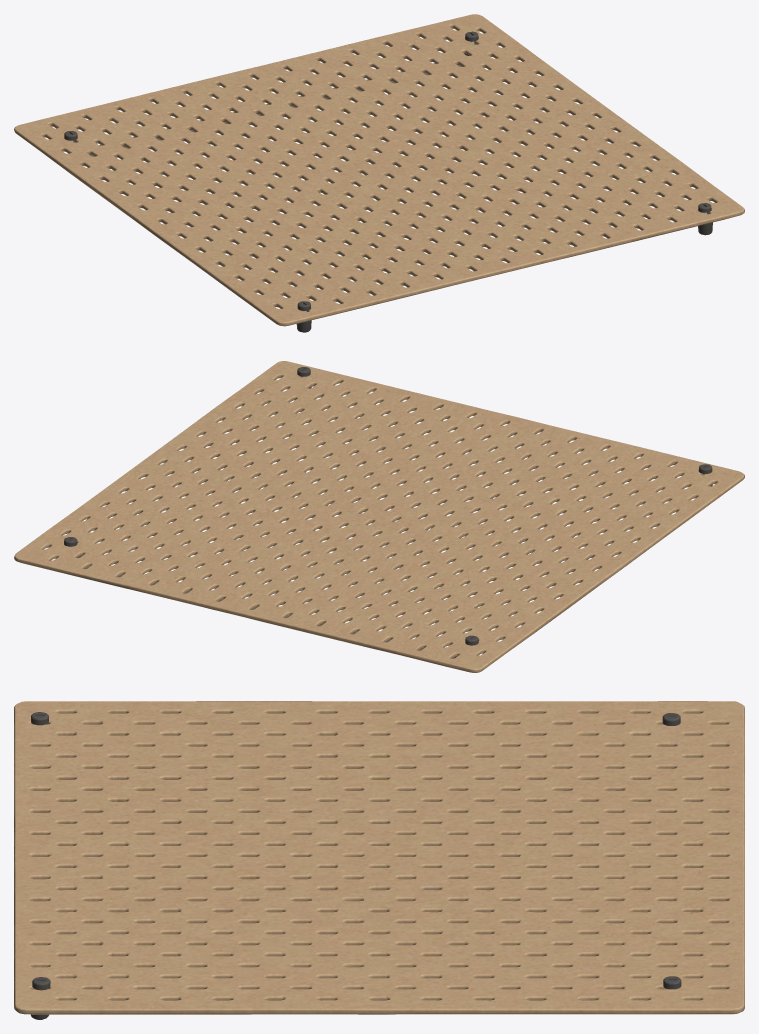
The model's file is SK_DIS_90347172.glb.
3 views of the same model, one above another, from view 1: azimuth 30°, elevation 25°; view 2: azimuth 150°, elevation 25°; view 3: azimuth 270°, elevation 25° (orthographic). The views are drawn at different scales.
Parts seen in each view (by area): view 1: 90347172-SKÃƒâ€¦DIS001; view 2: 90347172-SKÃƒâ€¦DIS001; view 3: 90347172-SKÃƒâ€¦DIS001.
Part boxes in pixels (left/top/right/bottom): 90347172-SKÃƒâ€¦DIS001: left=14, top=14, right=744, bottom=332; 90347172-SKÃƒâ€¦DIS001: left=14, top=361, right=744, bottom=672; 90347172-SKÃƒâ€¦DIS001: left=14, top=701, right=744, bottom=1019.
Bounding box in the file's own units: 0.56 × 0.0323 × 0.56.
1 material, 1 textured.
